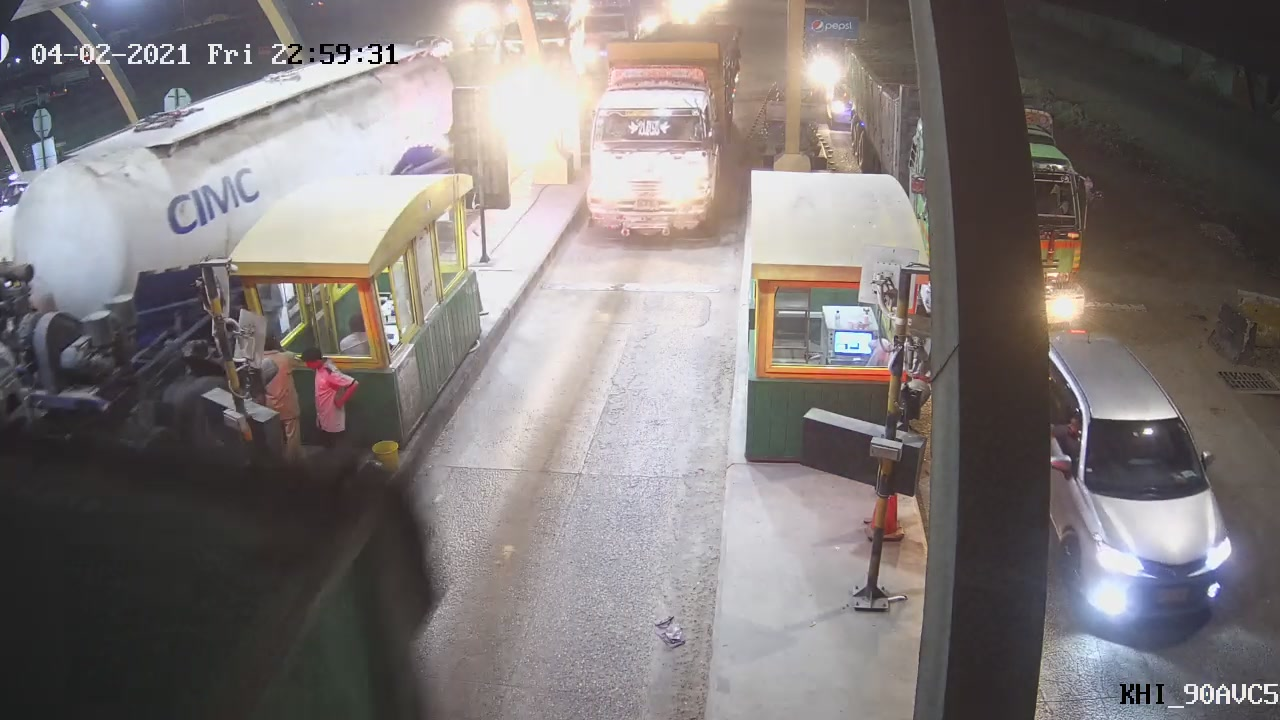F6: (580, 41, 739, 239)
